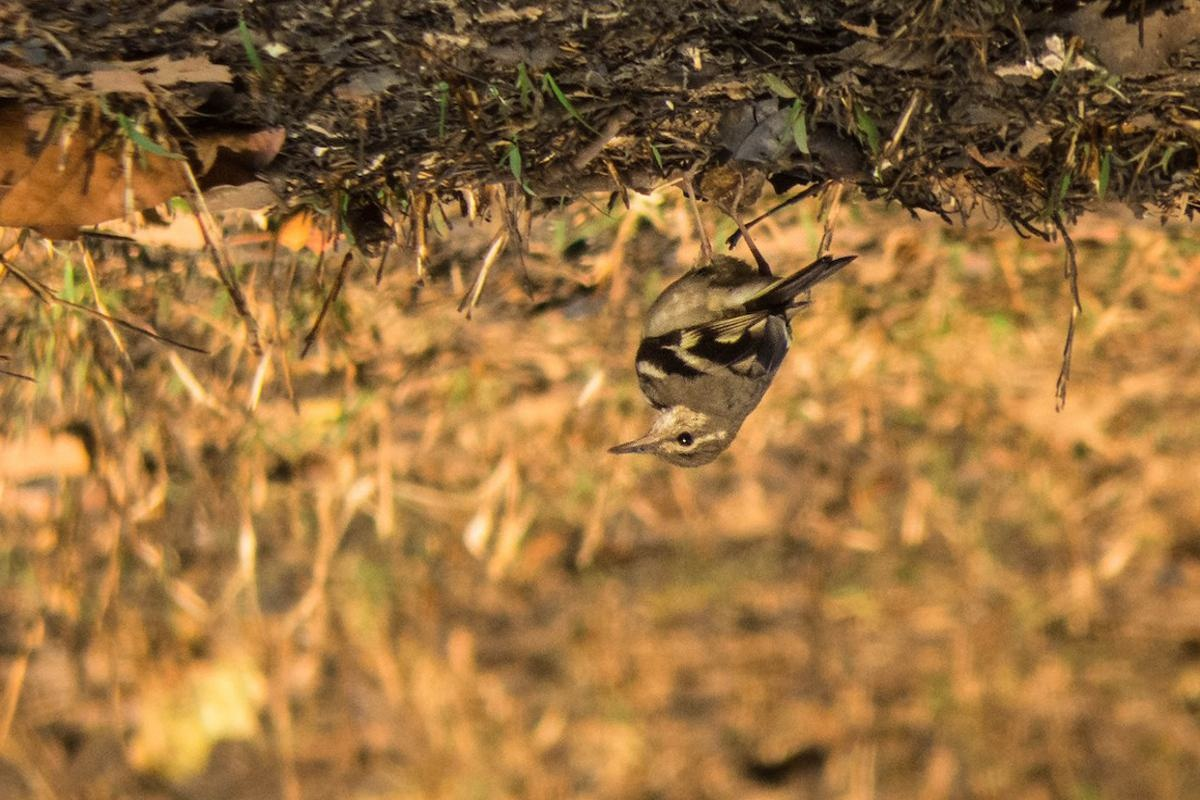wagtail: (595, 225, 851, 486)
